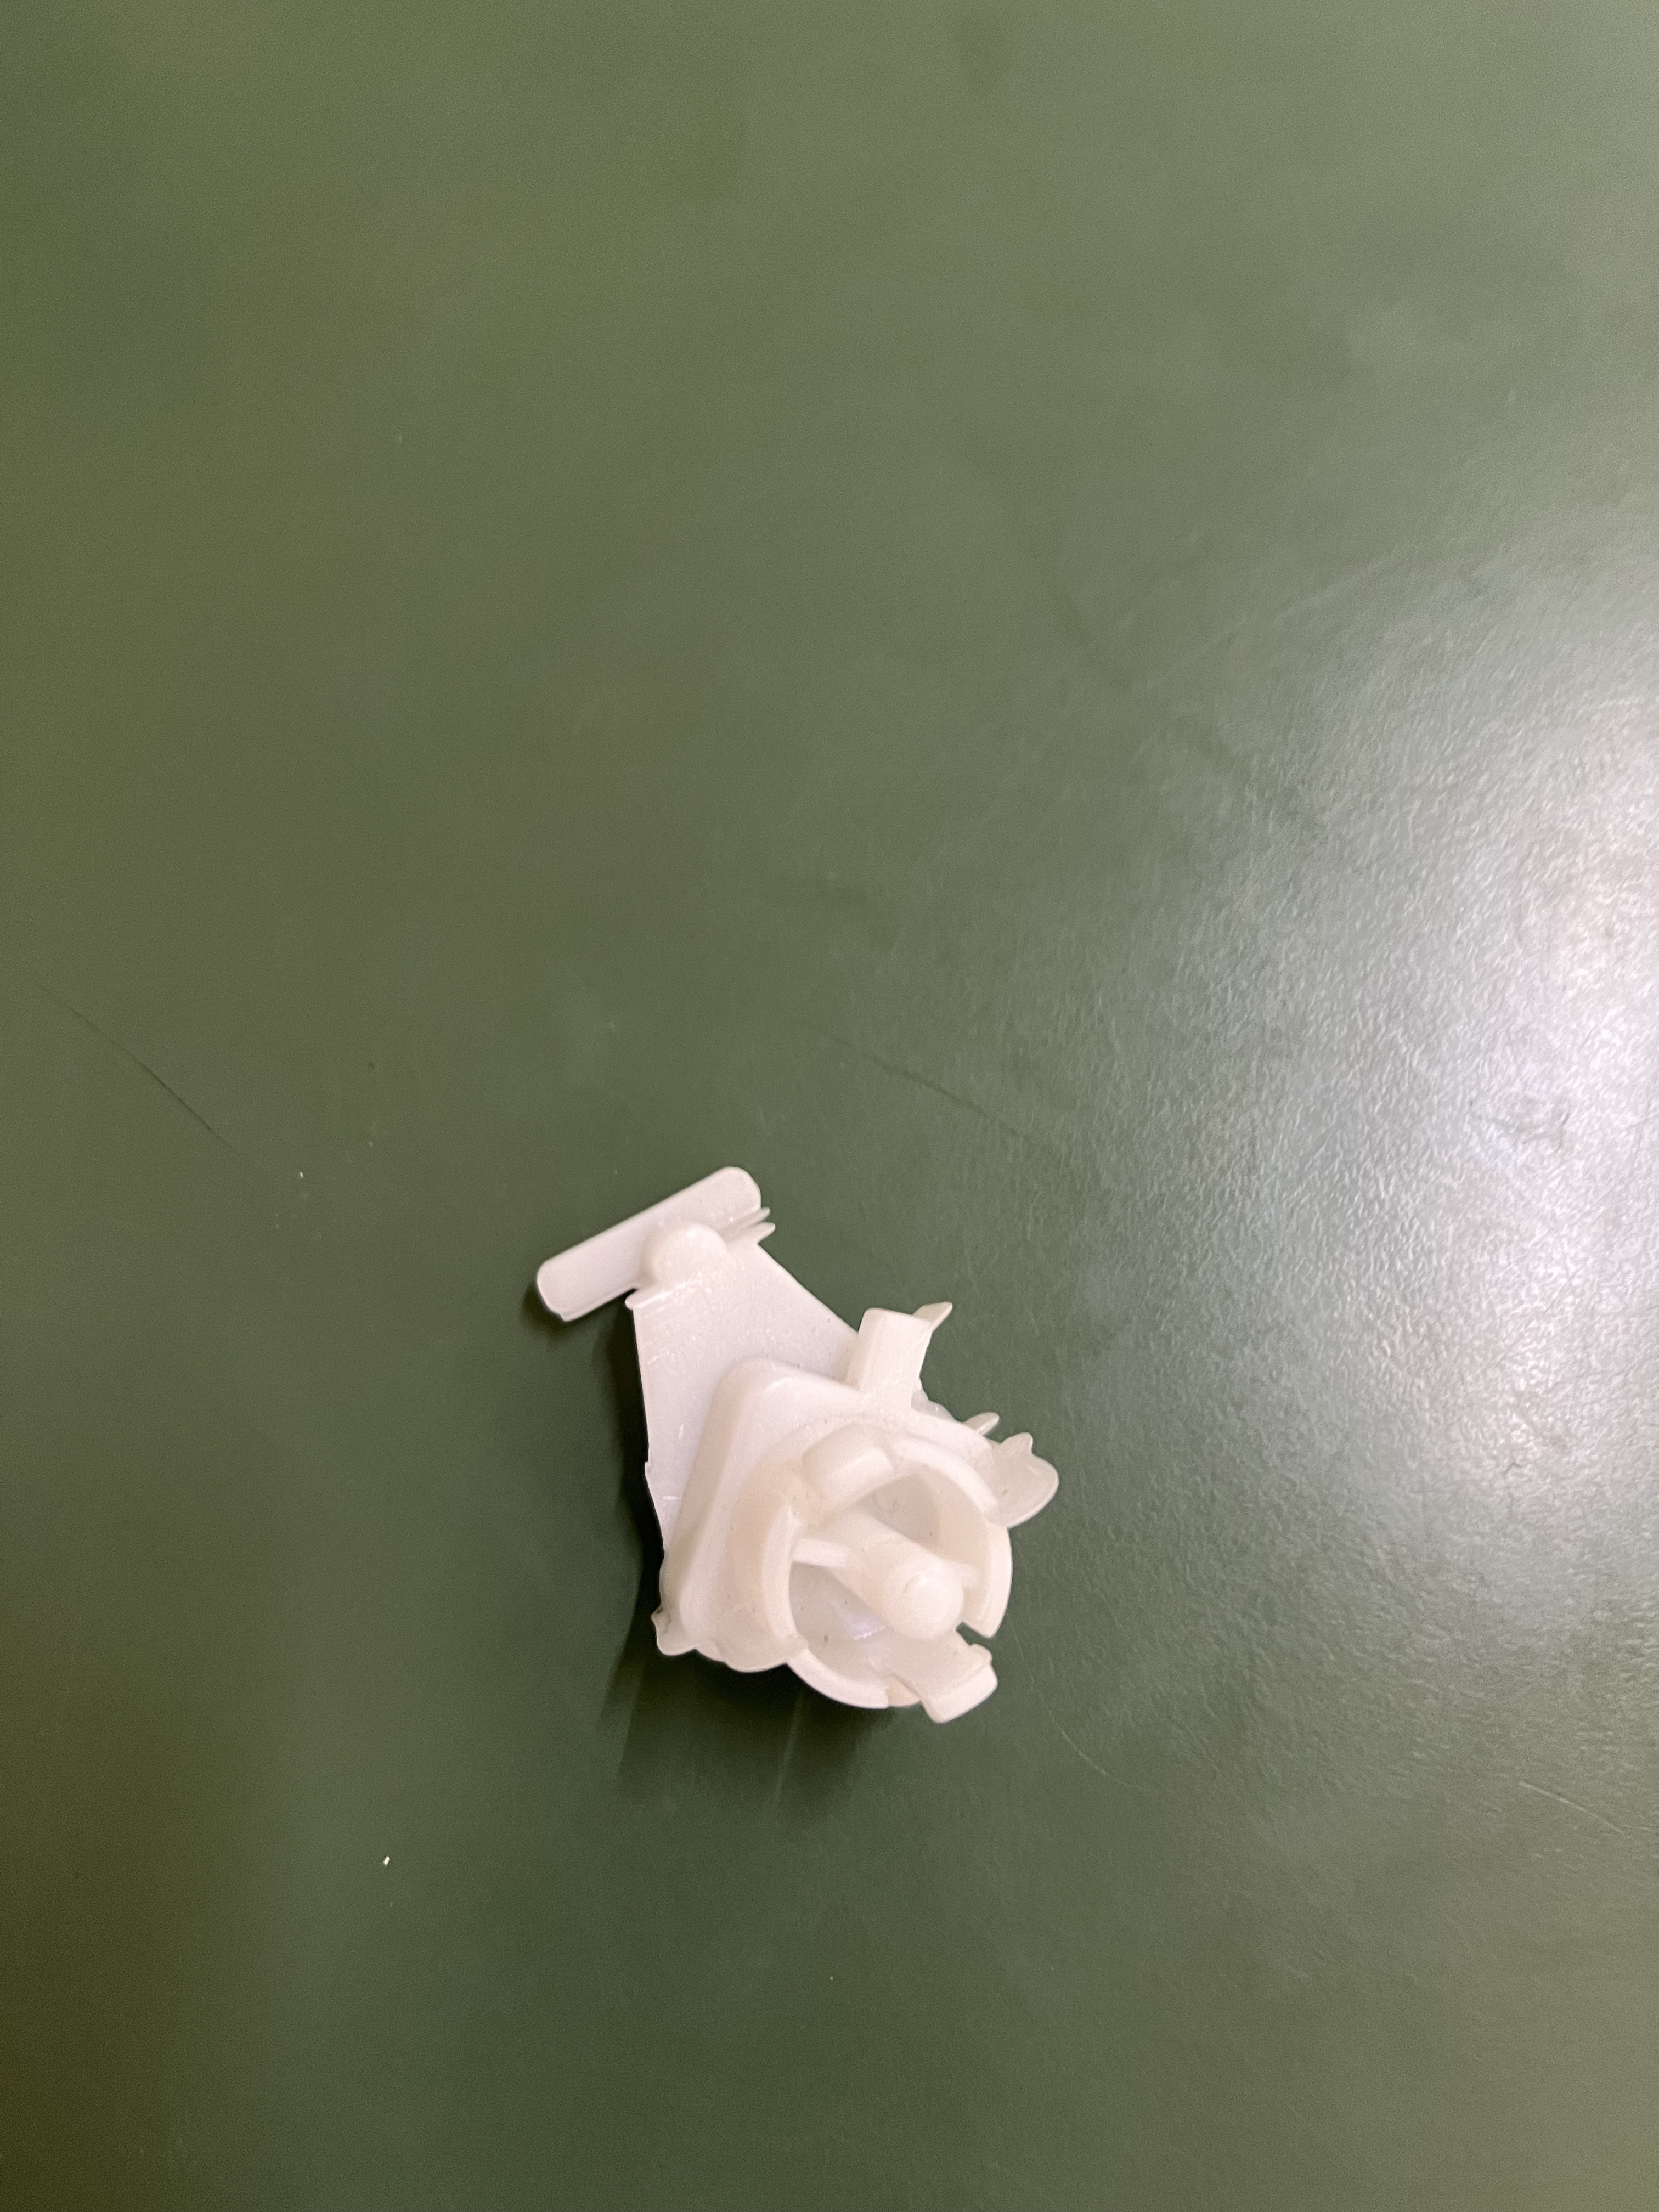drain_lever: (505, 1150, 1154, 1757)
